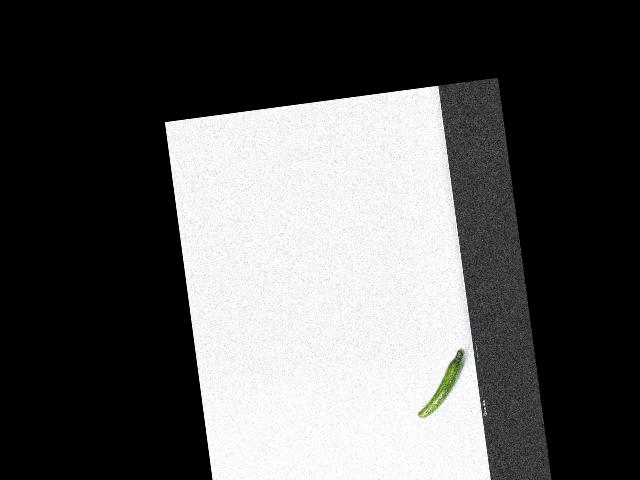cucumber: (410, 347, 472, 418)
